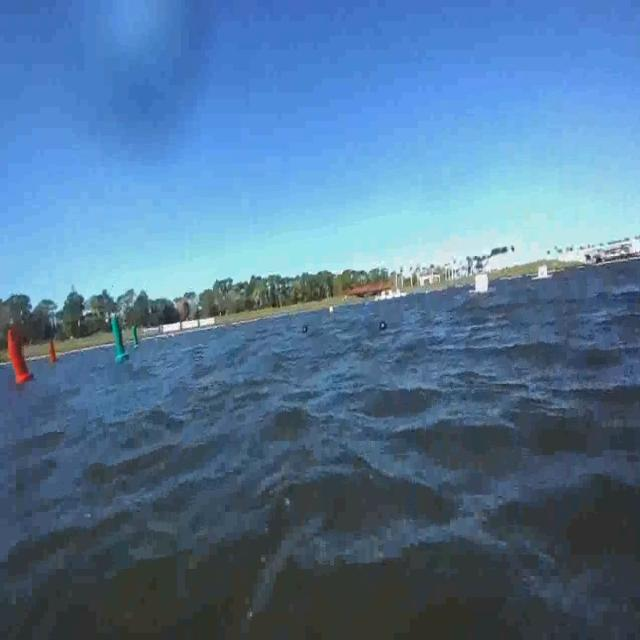black-buoy: (303, 326, 309, 334), (379, 322, 386, 328)
green-column-buoy: (108, 314, 129, 361), (132, 326, 141, 350)
red-column-buoy: (3, 324, 34, 384), (50, 338, 60, 366)
yellow-buoy: (327, 306, 334, 316)
